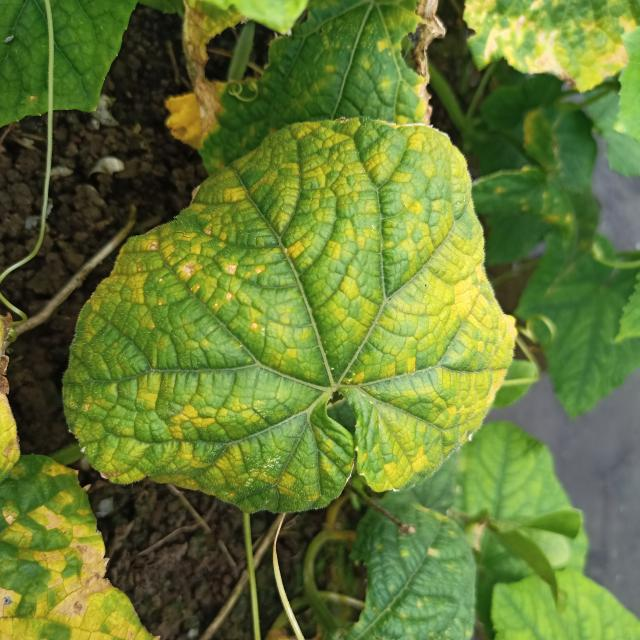disease_cucumber: (70, 124, 516, 492)
